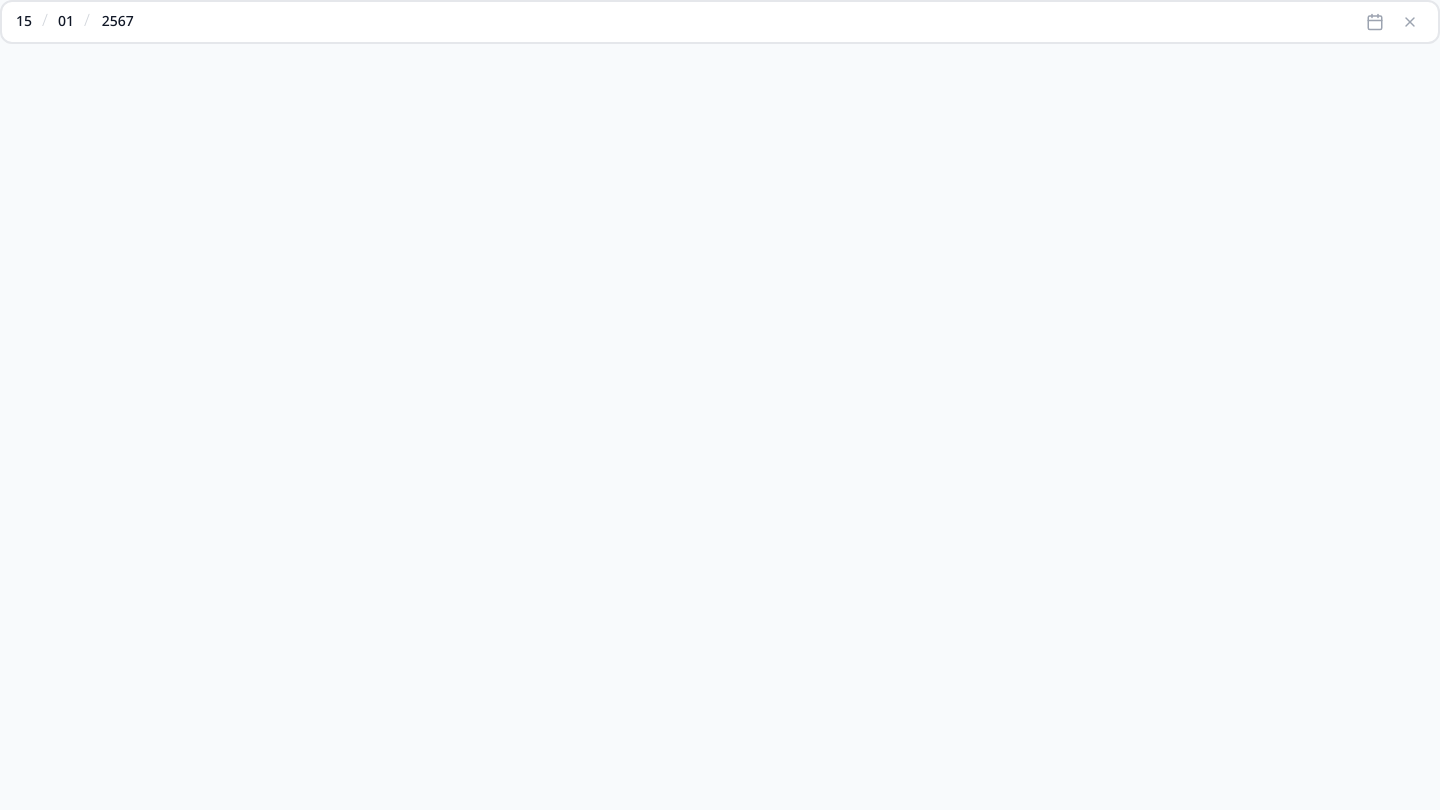
Test: CalendarPickerTH › กลุ่มปี พ.ศ.: month view opens a Buddhist-Era year grid
Click the button named "เปิดปฏิทินเลือกวันที่" at (1375, 22), box [1360, 7, 1390, 37]
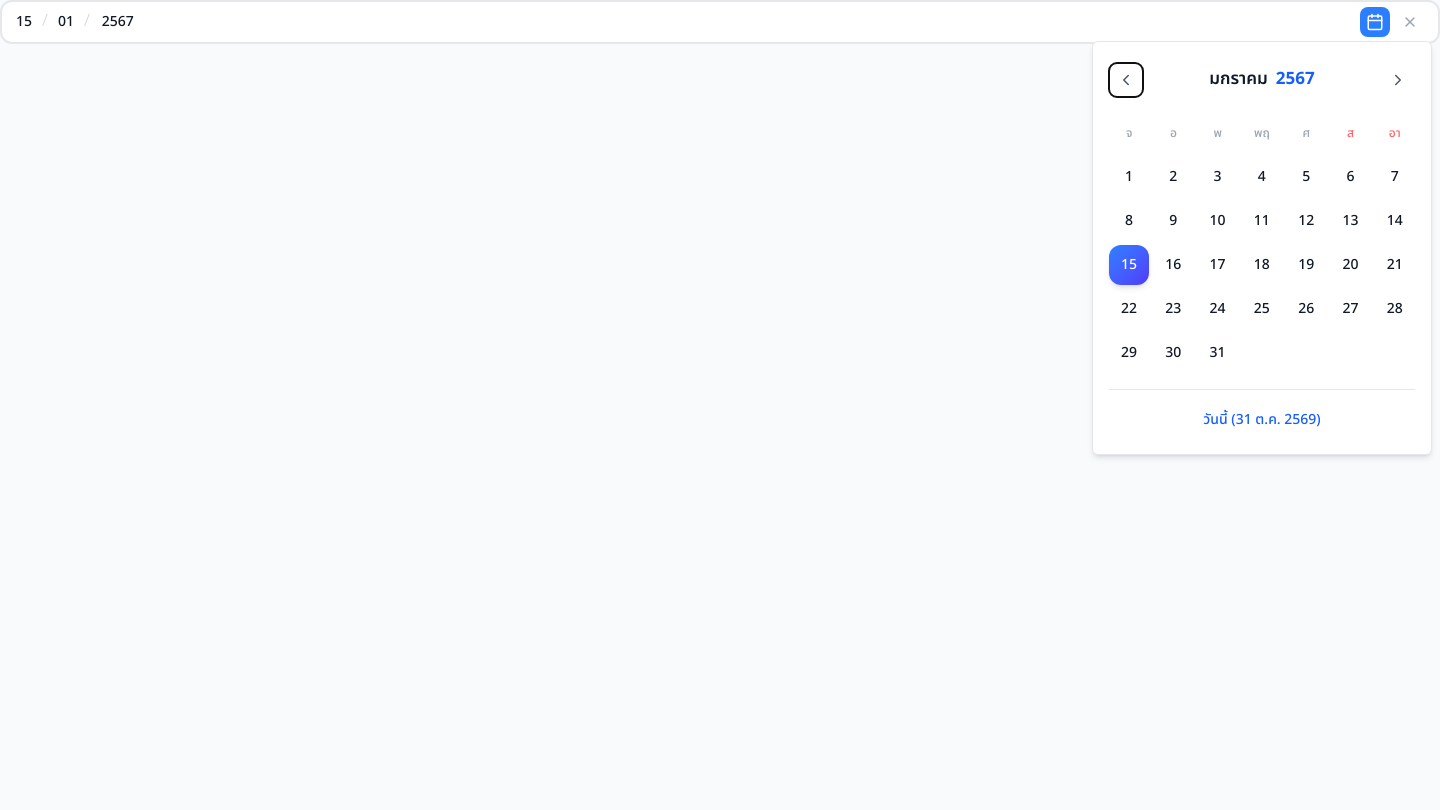
Click the button with aria-label "เลือกเดือน" at (1262, 80), box [1147, 58, 1377, 101]
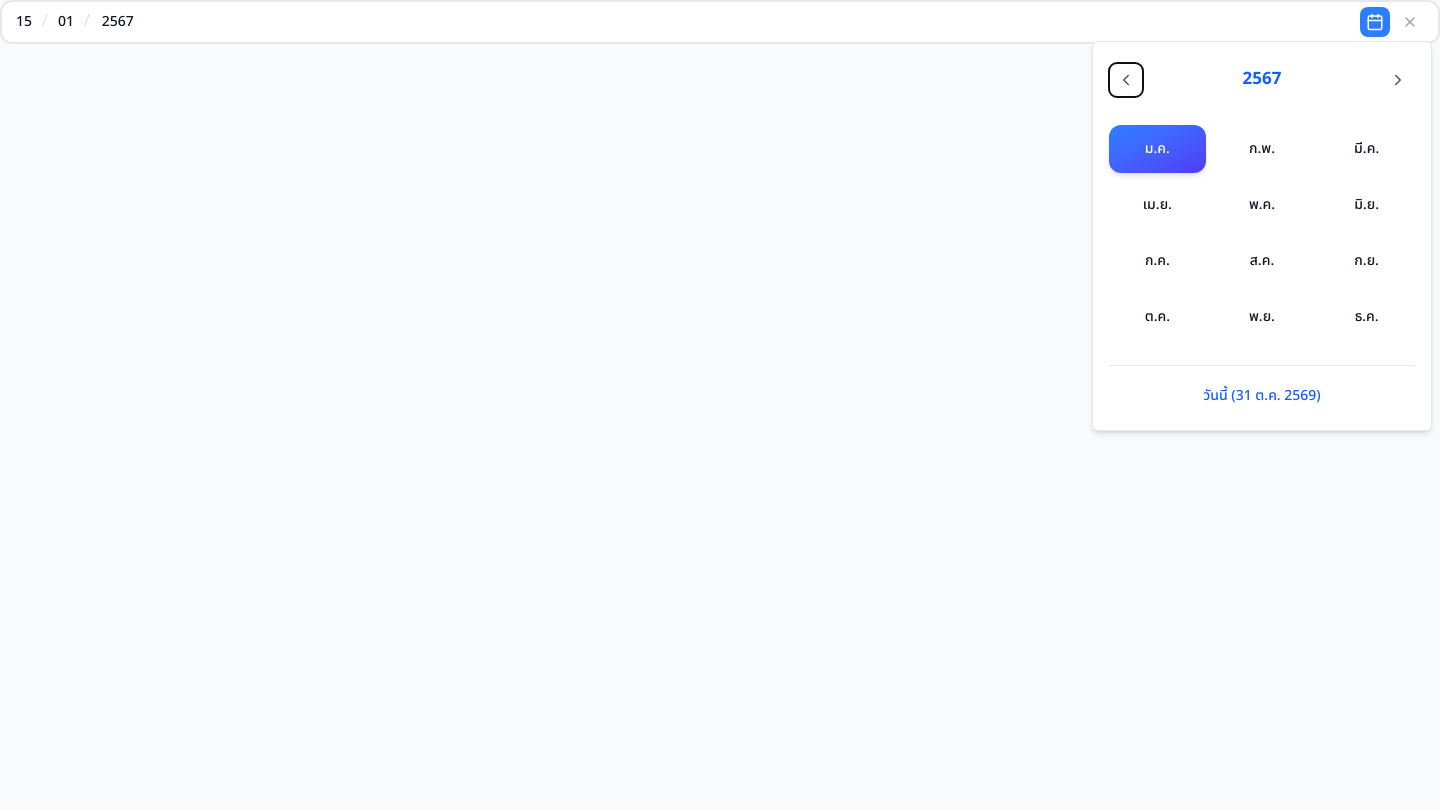
Click the button named "เลือกปี" at (1262, 80), box [1147, 58, 1377, 101]
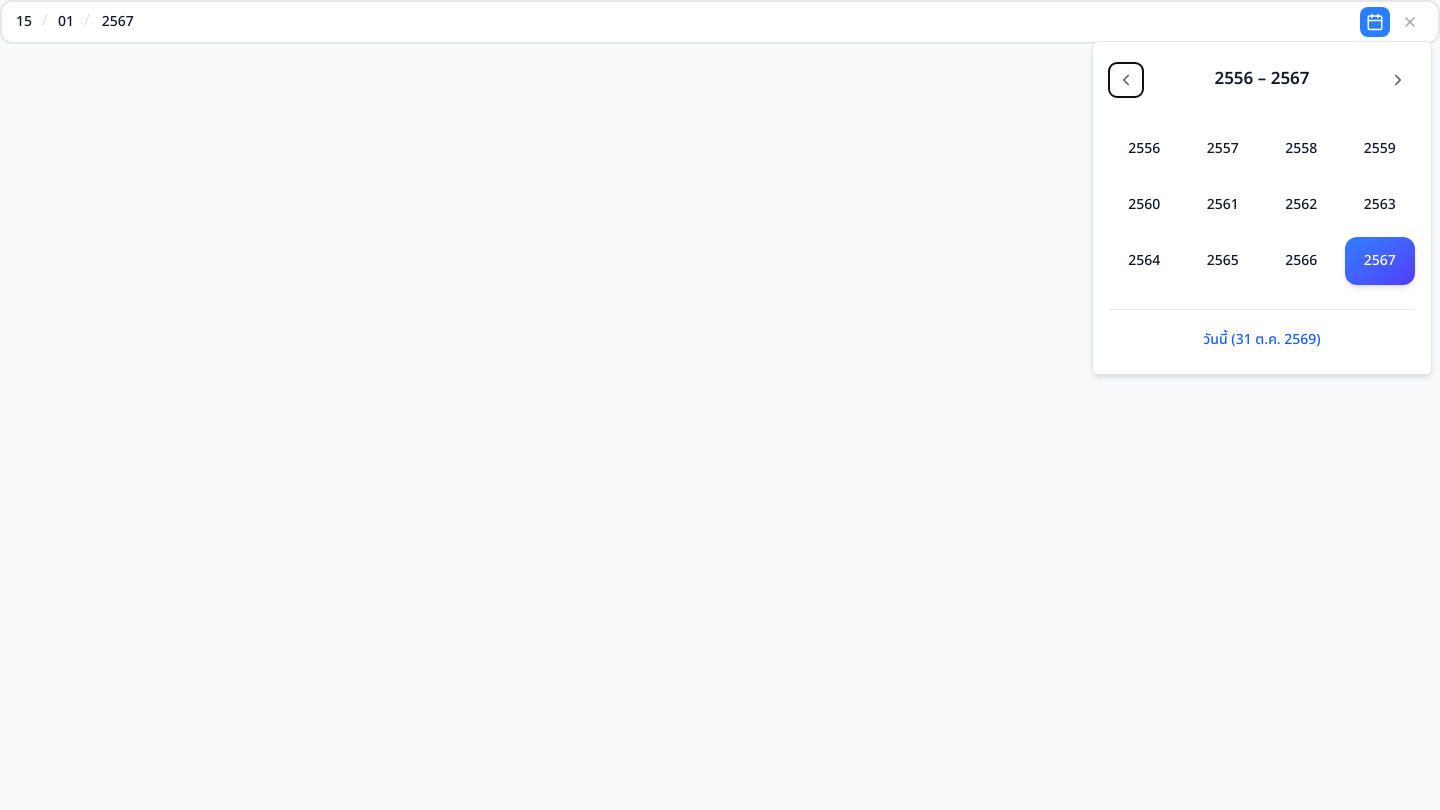
Result: the button named "พ.ศ. 2567" is shown at [1344, 237, 1415, 285]
